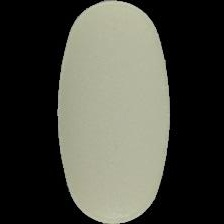10544-251: (0, 0, 224, 224)
